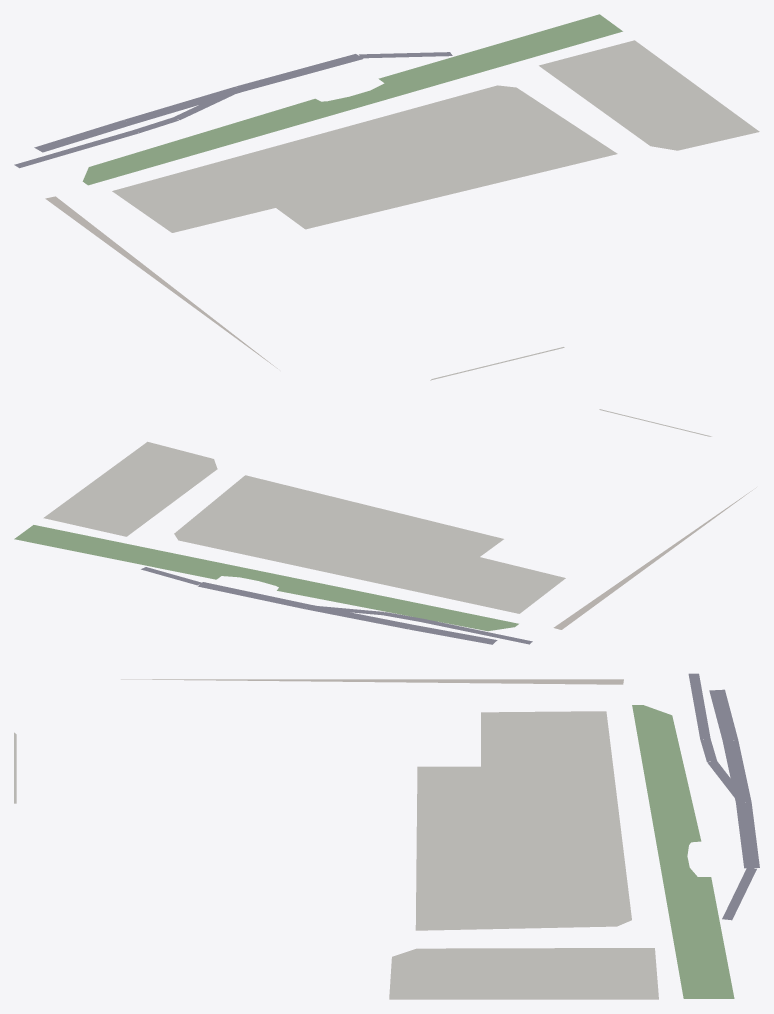
The model's file is 117_116_mid.glb.
3 views of the same model, one above another, from view 1: azimuth 30°, elevation 25°; view 2: azimuth 150°, elevation 25°; view 3: azimuth 270°, elevation 25° (orthographic). The views are drawn at different scales.
Size of the model in its own units: 500 by 7.36 by 495.
